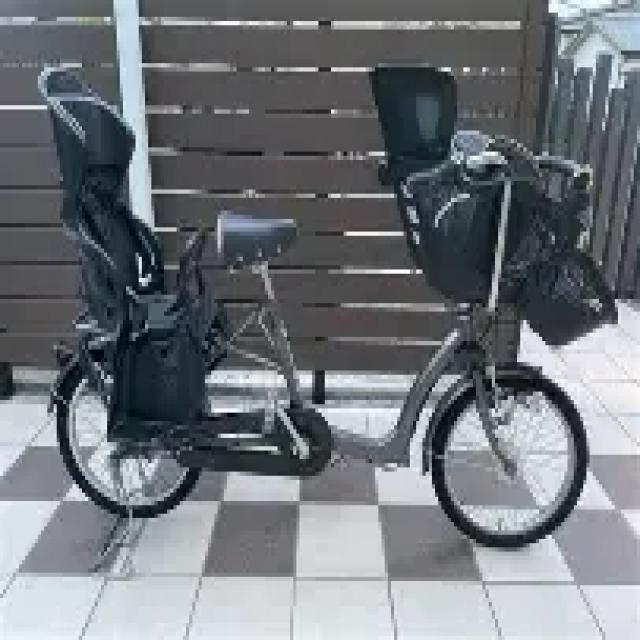childseat: (364, 57, 618, 356), (35, 53, 229, 437)
